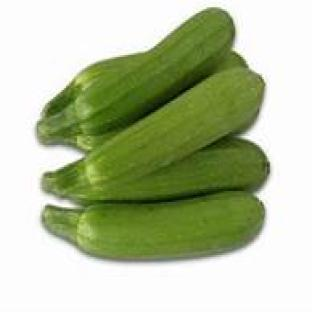Zucchini: (44, 68, 263, 196), (37, 10, 234, 141), (44, 191, 263, 258), (54, 138, 268, 203), (42, 54, 146, 117), (99, 56, 138, 78)
